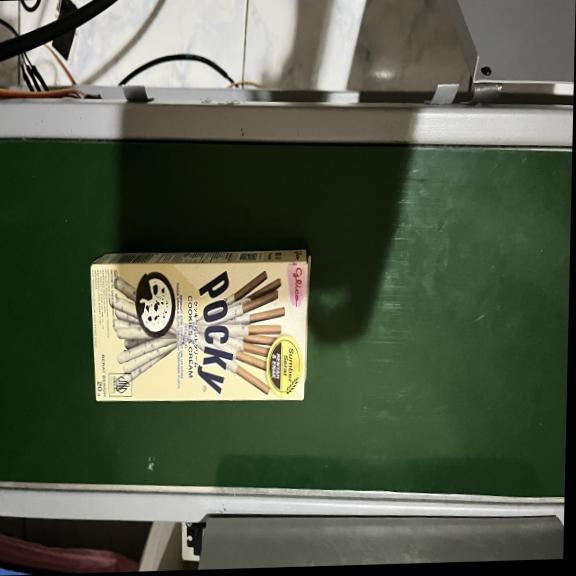Kertas: (88, 257, 308, 411)
